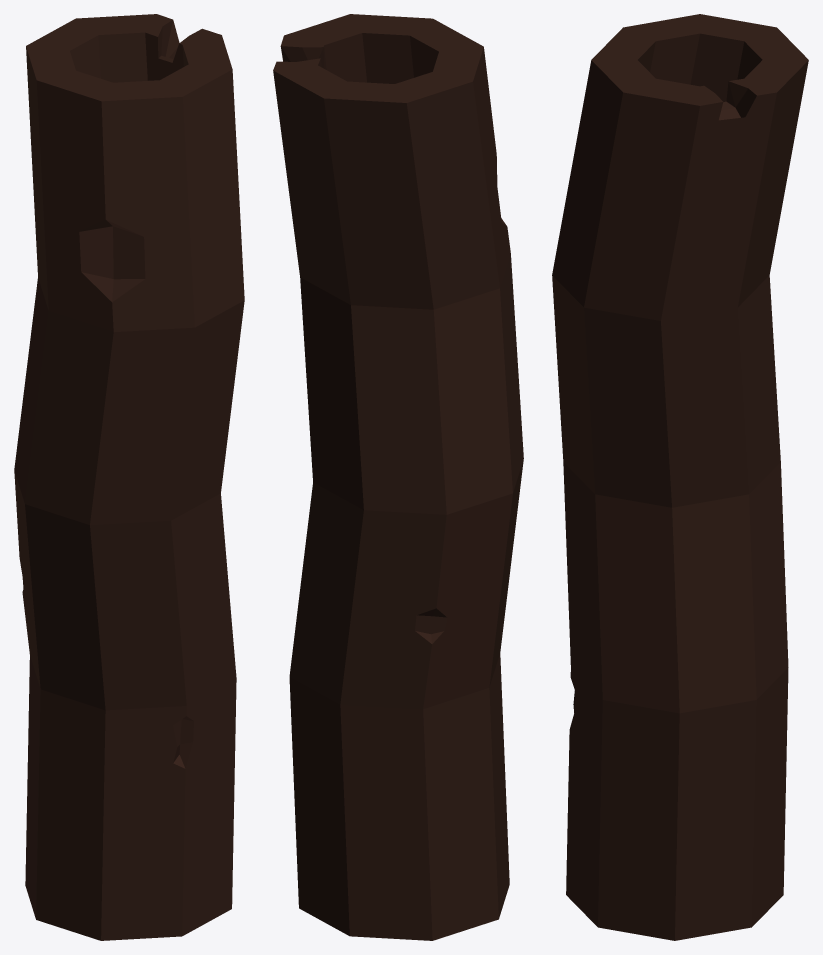
The model's file is TallTree.fbx.
The picture shows the model from 3 angles, left to right: view 1: azimuth 30°, elevation 25°; view 2: azimuth 150°, elevation 25°; view 3: azimuth 270°, elevation 25°; orthographic projection.
Visible parts, largest first — view 1: Wood; view 2: Wood; view 3: Wood.
Part boxes in pixels (box(x1,y1,x2,y2)): Wood: box(14, 14, 244, 940); Wood: box(273, 14, 523, 940); Wood: box(552, 14, 808, 940).
Size of the model in its own units: 89.61 by 336 by 92.99.
